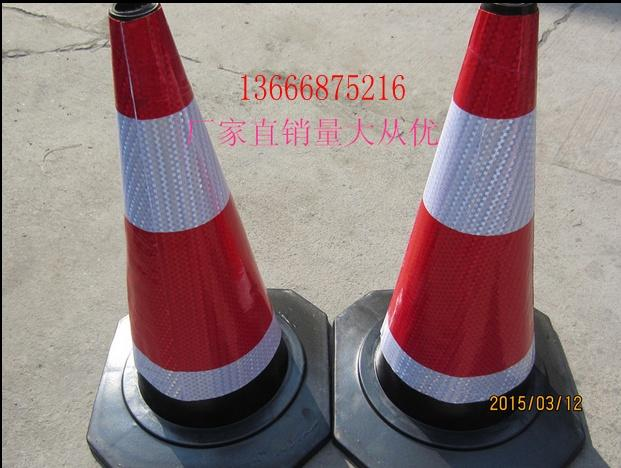cone_barrel: (356, 11, 581, 443), (86, 13, 316, 432)
